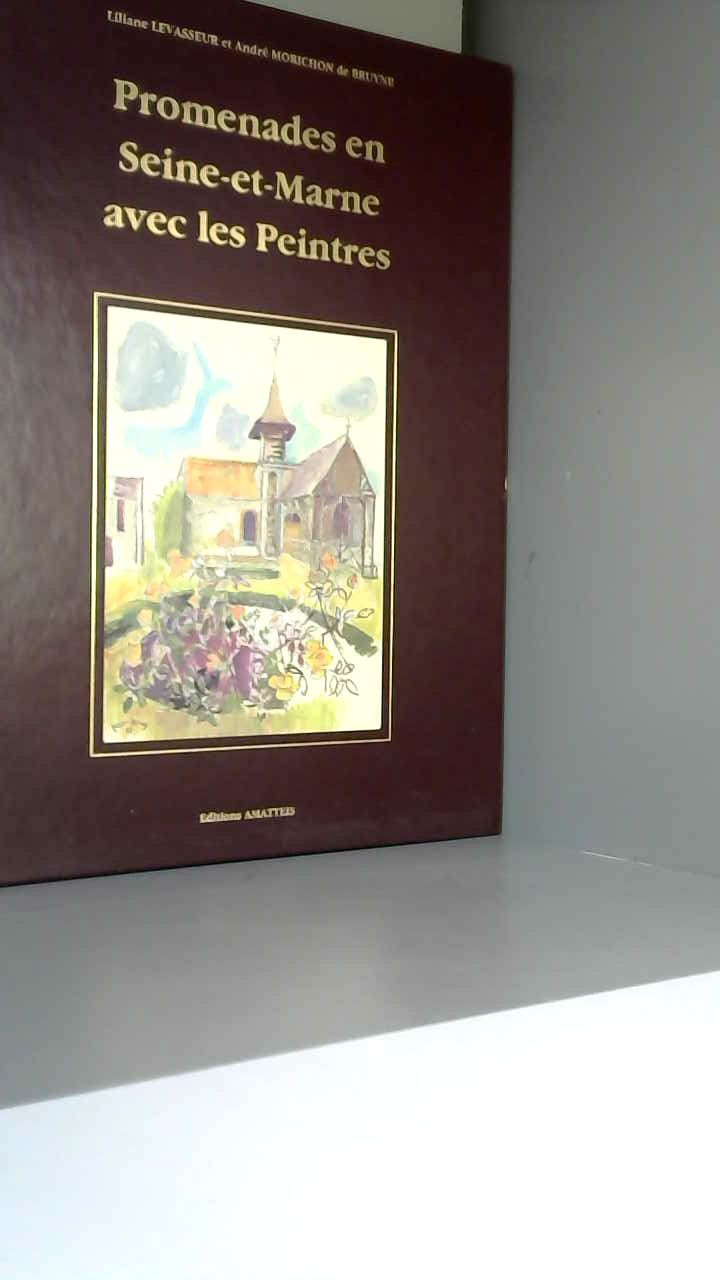book: (0, 0, 556, 905)
